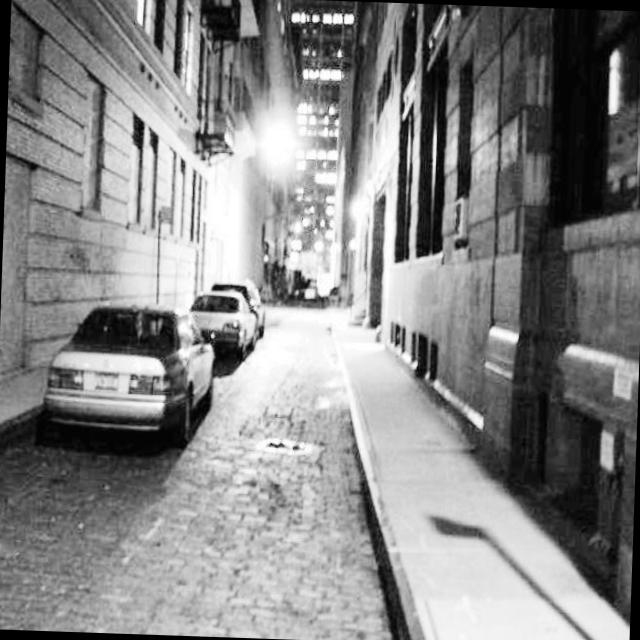Car: (29, 300, 218, 473), (162, 291, 282, 387), (200, 251, 276, 370), (294, 235, 337, 318)
